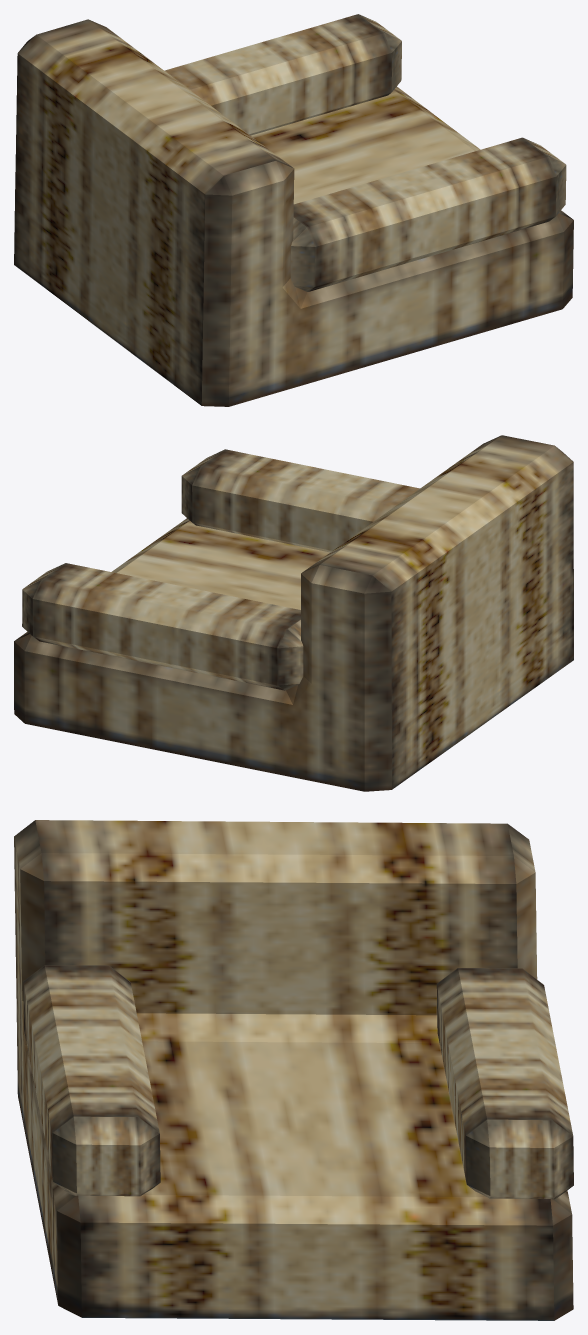
Rendered from Mayor_Couch.fbx.
The picture shows the model from 3 angles, top to bottom: view 1: azimuth 30°, elevation 25°; view 2: azimuth 150°, elevation 25°; view 3: azimuth 270°, elevation 25°; orthographic projection. The views are drawn at different scales.
Parts seen in each view (by area): view 1: shot_20260702112146.090, shot_20260702112146.091, shot_20260702112146.092; view 2: shot_20260702112146.090, shot_20260702112146.092, shot_20260702112146.091; view 3: shot_20260702112146.090, shot_20260702112146.091, shot_20260702112146.092.
Boxes of the visible parts, x1=… form: shot_20260702112146.090: x1=14, y1=19, x2=573, y2=406; shot_20260702112146.091: x1=290, y1=137, x2=566, y2=291; shot_20260702112146.092: x1=164, y1=14, x2=401, y2=135; shot_20260702112146.090: x1=14, y1=435, x2=573, y2=791; shot_20260702112146.092: x1=22, y1=563, x2=303, y2=690; shot_20260702112146.091: x1=181, y1=449, x2=419, y2=552; shot_20260702112146.090: x1=14, y1=820, x2=573, y2=1320; shot_20260702112146.091: x1=23, y1=965, x2=160, y2=1196; shot_20260702112146.092: x1=436, y1=968, x2=573, y2=1199.
Bounding box in the file's own units: 576 × 316 × 576.
